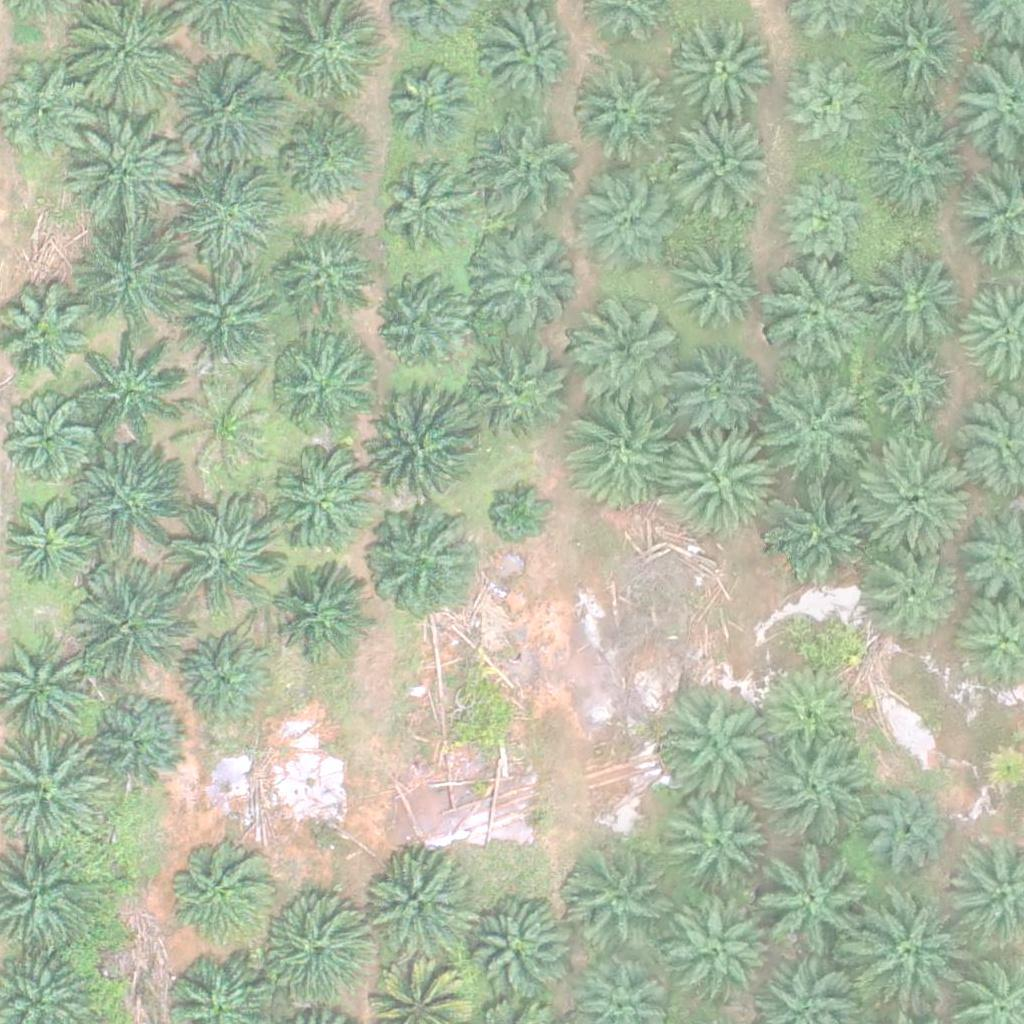Kelapa_Sawit: (75, 569, 188, 683), (754, 360, 867, 473), (767, 477, 880, 590), (661, 424, 774, 537), (566, 165, 679, 278), (566, 284, 679, 397), (558, 398, 671, 511), (850, 901, 963, 1014), (756, 850, 869, 963), (661, 693, 774, 806), (458, 895, 571, 1008), (463, 225, 576, 338), (362, 394, 475, 507), (76, 443, 189, 556), (66, 117, 179, 230), (757, 258, 869, 372), (567, 58, 679, 172), (270, 444, 382, 558), (171, 155, 283, 269), (172, 268, 284, 382), (165, 833, 277, 947), (179, 52, 291, 166), (862, 108, 974, 221), (859, 248, 971, 361), (859, 436, 971, 549), (670, 111, 782, 224), (762, 733, 874, 846), (664, 883, 776, 996), (558, 846, 670, 959), (361, 852, 473, 965), (251, 896, 363, 1009), (470, 108, 582, 221), (364, 510, 476, 623), (168, 499, 280, 612), (73, 330, 185, 443), (77, 215, 189, 328), (665, 12, 777, 125), (273, 3, 385, 116), (855, 546, 955, 647), (668, 343, 768, 444), (672, 230, 772, 331), (761, 663, 861, 764), (669, 797, 769, 898), (472, 344, 572, 445), (369, 276, 469, 377), (178, 372, 278, 473), (85, 690, 185, 791), (271, 563, 371, 663), (275, 234, 375, 334), (268, 335, 368, 435), (174, 636, 274, 736), (478, 6, 578, 106), (863, 344, 951, 432), (780, 174, 868, 262), (868, 783, 956, 871), (380, 163, 468, 251), (277, 117, 365, 205), (383, 60, 471, 148), (783, 64, 870, 152), (482, 473, 557, 548)
